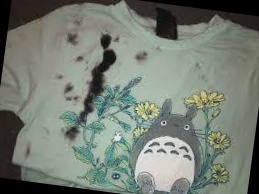ink: (85, 71, 104, 113), (97, 49, 118, 73), (62, 83, 75, 102), (98, 33, 113, 49), (63, 127, 78, 141), (66, 32, 81, 45), (135, 51, 149, 63), (75, 54, 86, 64)
